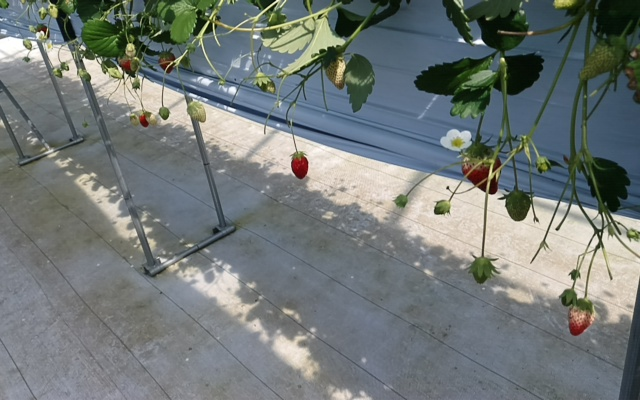GreenStrawberry: (574, 33, 628, 85), (324, 49, 348, 91), (504, 190, 531, 221), (471, 258, 495, 287), (255, 71, 278, 96), (186, 100, 206, 122), (434, 198, 451, 216), (562, 290, 577, 306), (145, 114, 158, 127), (158, 107, 170, 121), (129, 112, 138, 125)
MatureStrawberry: (458, 147, 501, 194), (567, 302, 593, 337), (289, 152, 310, 180), (155, 51, 176, 74), (138, 115, 146, 126)
